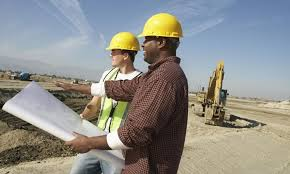Person_wearing_helmet: (136, 10, 183, 46), (102, 29, 138, 57)
